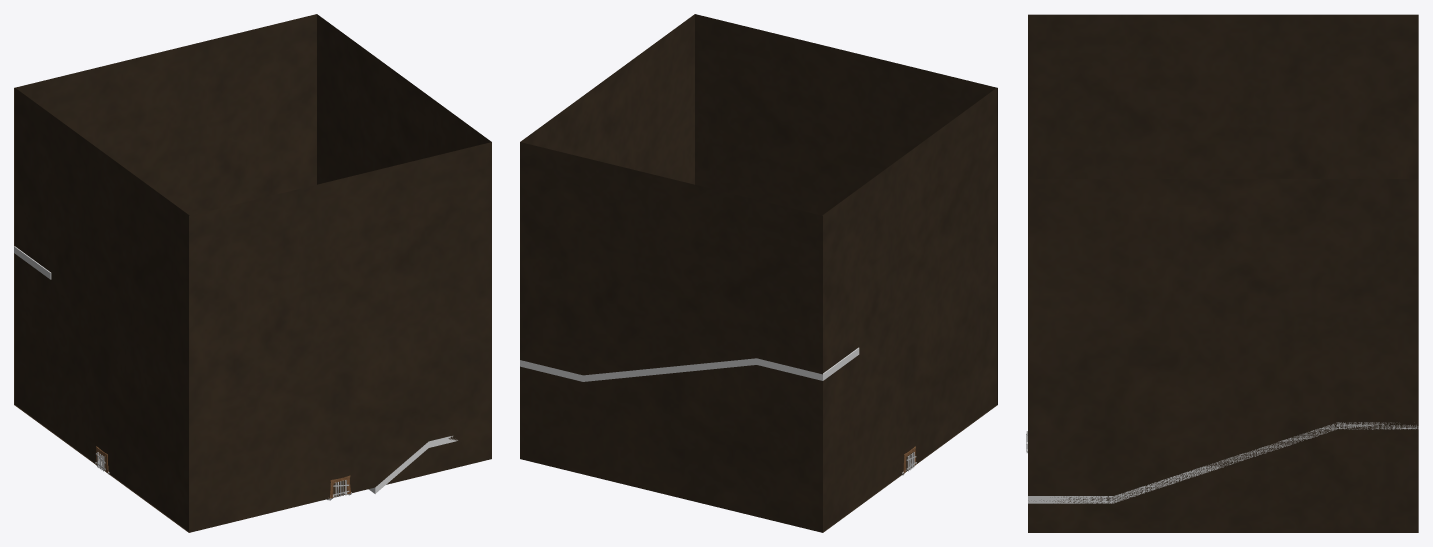
The model's file is Room009.fbx.
3 renders of one model, left to right at view 1: azimuth 30°, elevation 25°; view 2: azimuth 150°, elevation 25°; view 3: azimuth 270°, elevation 25°, orthographic. The views are drawn at different scales.
Parts seen in each view (by area): view 1: 4ParedN, 3ParedE, 2ParedSinPuertaS, 1ParedSinPuertaW, 4Pared.001N, 4Pared.002N, 3Pared.001E, 3Pared.002E, 1Rampa; view 2: 2ParedSinPuertaS, 3ParedE, 4ParedN, 1ParedSinPuertaW, 1Rampa, 3Pared.002E, 3Pared.001E; view 3: 1ParedSinPuertaW, 3ParedE, 1Rampa.
Part boxes in pixels (box(x1,y1,x2,y2)): 4ParedN: box(189, 142, 491, 516); 3ParedE: box(15, 88, 189, 515); 2ParedSinPuertaS: box(14, 14, 316, 404); 1ParedSinPuertaW: box(317, 14, 491, 184); 4Pared.001N: box(189, 482, 330, 532); 4Pared.002N: box(350, 443, 491, 493); 3Pared.001E: box(15, 389, 96, 462); 3Pared.002E: box(108, 457, 188, 531); 1Rampa: box(14, 246, 457, 493); 2ParedSinPuertaS: box(520, 142, 822, 532); 3ParedE: box(822, 88, 996, 515); 4ParedN: box(695, 14, 997, 388); 1ParedSinPuertaW: box(520, 14, 694, 184); 1Rampa: box(520, 347, 859, 381); 3Pared.002E: box(915, 389, 996, 462); 3Pared.001E: box(823, 457, 903, 531); 1ParedSinPuertaW: box(1028, 179, 1418, 532); 3ParedE: box(1028, 14, 1418, 178); 1Rampa: box(1028, 422, 1418, 503).
Bounding box in the file's own units: 9646 × 9800 × 9646.
